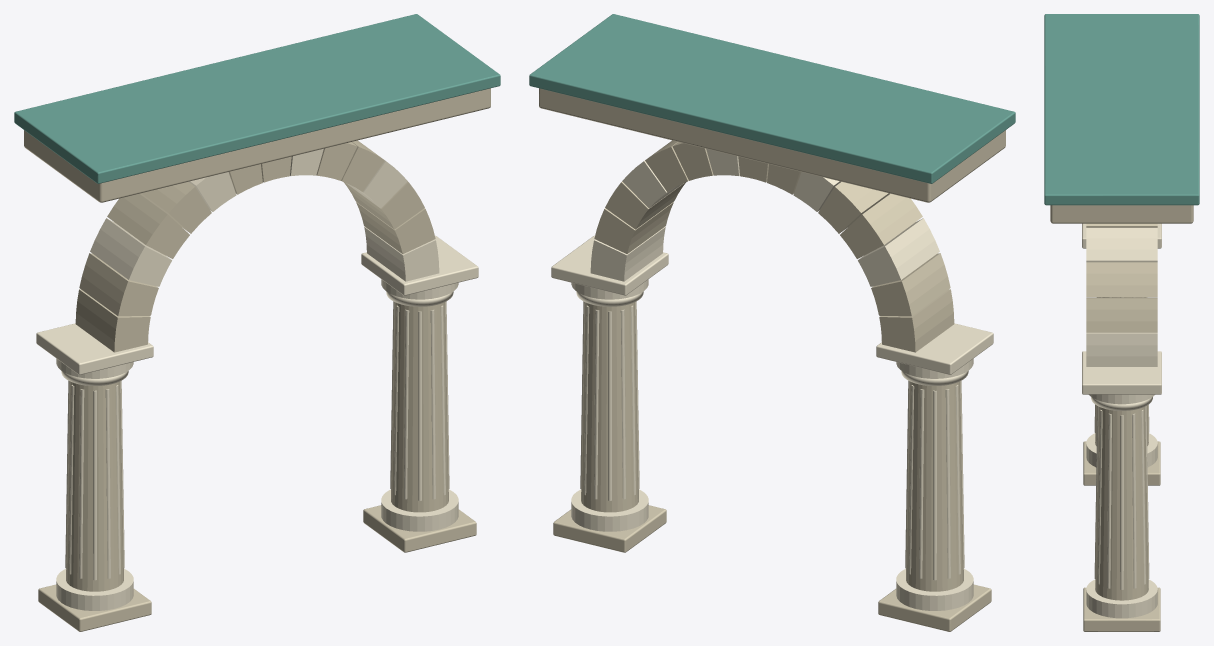
File: fantasy-bathhouse-and-thermal-sanctuary-fantasy-bathho-41beb76b__29430.glb
3 renders of one model, left to right at view 1: azimuth 30°, elevation 25°; view 2: azimuth 150°, elevation 25°; view 3: azimuth 270°, elevation 25°, orthographic. The views are drawn at different scales.
Parts seen in each view (by area): view 1: fantasy-bathhouse-and-thermal-sanctuary-arcaded-courtyard-ba (×3); view 2: fantasy-bathhouse-and-thermal-sanctuary-arcaded-courtyard-ba (×3); view 3: fantasy-bathhouse-and-thermal-sanctuary-arcaded-courtyard-ba (×3).
Boxes of the visible parts, left/top/right/bottom form: fantasy-bathhouse-and-thermal-sanctuary-arcaded-courtyard-ba (×3): left=14, top=14, right=500, bottom=631; fantasy-bathhouse-and-thermal-sanctuary-arcaded-courtyard-ba (×3): left=529, top=14, right=1015, bottom=631; fantasy-bathhouse-and-thermal-sanctuary-arcaded-courtyard-ba (×3): left=1044, top=14, right=1199, bottom=631.
Bounding box in the file's own units: 3.6 × 4.06 × 1.3.
